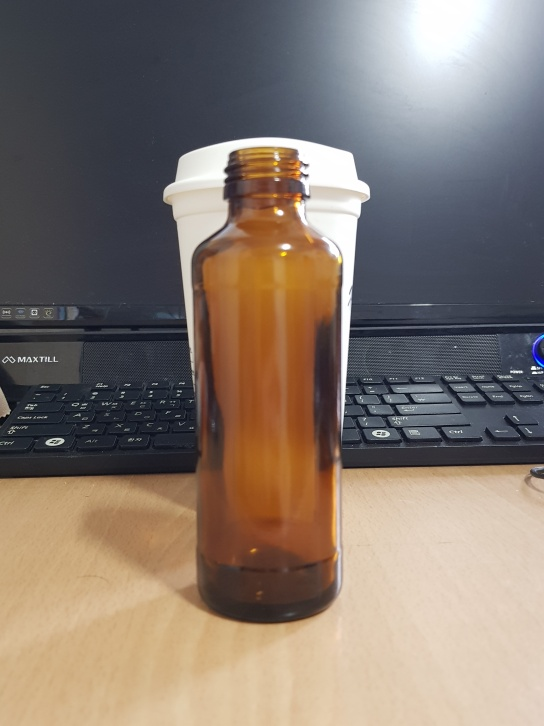Glass: (188, 145, 346, 625)
